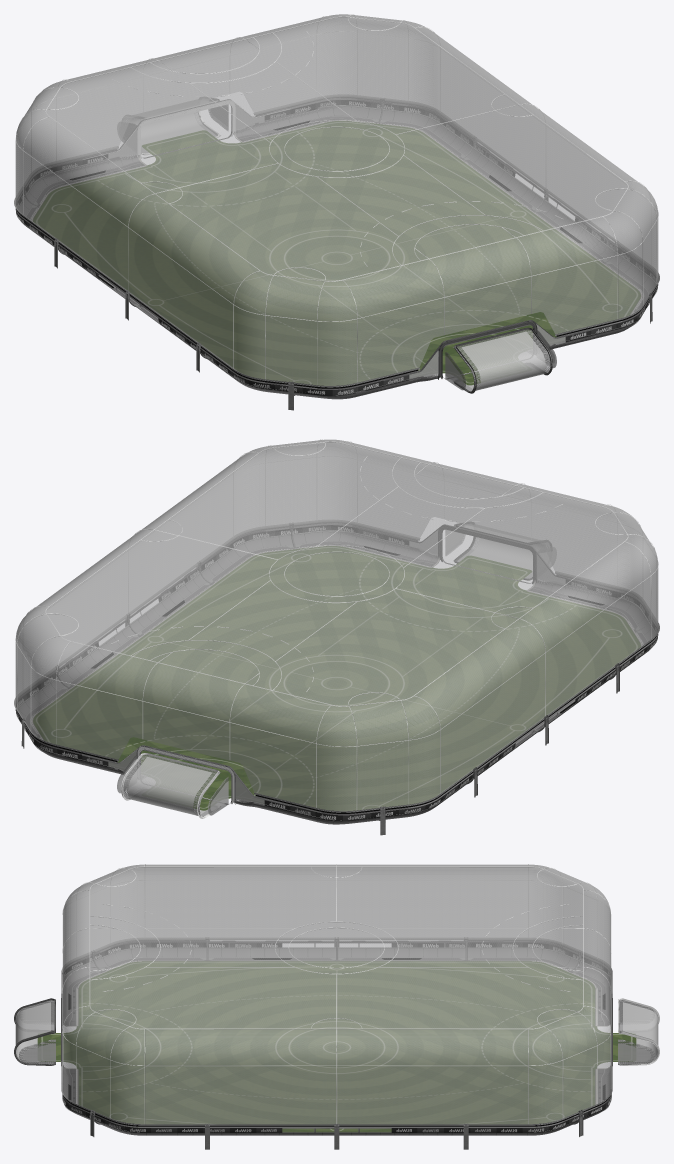
File: maprl.glb
The picture shows the model from 3 angles, top to bottom: view 1: azimuth 30°, elevation 25°; view 2: azimuth 150°, elevation 25°; view 3: azimuth 270°, elevation 25°; orthographic projection. The views are drawn at different scales.
Parts seen in each view (by area): view 1: CS_FieldHexShell_01.mo, Grass_Base_Flat_mo, CS_FieldWalls_01_mo, CS_Lattice_01_mo, Goal_STD_Glass.mo.001, AdvertStrip_Field, Goal_STD_Glass.mo.002, Goal_STD_Trim.mo.001, Goal_STD_Trim.mo.002, CS_FieldClampsCombined_01a.mo, CS_FieldLightTrim_01_mo_002, CS_FieldWallsGlass_01_mo_002; view 2: CS_FieldHexShell_01.mo, Grass_Base_Flat_mo, CS_FieldWalls_01_mo, CS_Lattice_01_mo, Goal_STD_Glass.mo.002, AdvertStrip_Field, Goal_STD_Glass.mo.001, Goal_STD_Trim.mo.002, Goal_STD_Trim.mo.001, CS_FieldClampsCombined_01a.mo, CS_FieldLightTrim_01_mo_002; view 3: CS_FieldHexShell_01.mo, Grass_Base_Flat_mo, CS_FieldWalls_01_mo, CS_Lattice_01_mo, AdvertStrip_Field, Goal_STD_Glass.mo.002, Goal_STD_Glass.mo.001, CS_FieldClampsCombined_01a.mo, Goal_STD_Trim.mo.001, Goal_STD_Trim.mo.002, CS_FieldLightTrim_01_mo_002.
Boxes of the visible parts, <box> form: CS_FieldHexShell_01.mo: <box>15,14,658,388</box>; Grass_Base_Flat_mo: <box>33,121,640,385</box>; CS_FieldWalls_01_mo: <box>14,95,659,399</box>; CS_Lattice_01_mo: <box>15,14,658,384</box>; Goal_STD_Glass.mo.001: <box>295,319,639,397</box>; AdvertStrip_Field: <box>15,100,658,396</box>; Goal_STD_Glass.mo.002: <box>56,99,318,173</box>; Goal_STD_Trim.mo.001: <box>383,320,591,393</box>; Goal_STD_Trim.mo.002: <box>83,97,289,159</box>; CS_FieldClampsCombined_01a.mo: <box>24,98,652,410</box>; CS_FieldLightTrim_01_mo_002: <box>31,120,642,376</box>; CS_FieldWallsGlass_01_mo_002: <box>130,299,486,392</box>; CS_FieldHexShell_01.mo: <box>15,439,658,812</box>; Grass_Base_Flat_mo: <box>33,546,640,811</box>; CS_FieldWalls_01_mo: <box>14,520,659,824</box>; CS_Lattice_01_mo: <box>15,439,658,809</box>; Goal_STD_Glass.mo.002: <box>33,743,379,823</box>; AdvertStrip_Field: <box>15,525,658,821</box>; Goal_STD_Glass.mo.001: <box>356,525,621,599</box>; Goal_STD_Trim.mo.002: <box>82,745,290,818</box>; Goal_STD_Trim.mo.001: <box>383,522,590,584</box>; CS_FieldClampsCombined_01a.mo: <box>21,523,649,835</box>; CS_FieldLightTrim_01_mo_002: <box>31,545,642,801</box>; CS_FieldHexShell_01.mo: <box>63,864,610,1127</box>; Grass_Base_Flat_mo: <box>37,961,636,1132</box>; CS_FieldWalls_01_mo: <box>61,938,612,1135</box>; CS_Lattice_01_mo: <box>62,864,611,1124</box>; AdvertStrip_Field: <box>62,943,611,1132</box>; Goal_STD_Glass.mo.002: <box>584,999,658,1118</box>; Goal_STD_Glass.mo.001: <box>15,999,89,1118</box>; CS_FieldClampsCombined_01a.mo: <box>90,937,583,1149</box>; Goal_STD_Trim.mo.001: <box>14,993,63,1066</box>; Goal_STD_Trim.mo.002: <box>610,993,659,1066</box>; CS_FieldLightTrim_01_mo_002: <box>63,960,610,1104</box>.
Size of the model in its own units: 82.72 by 22.39 by 121.
20 materials, 15 textured.
